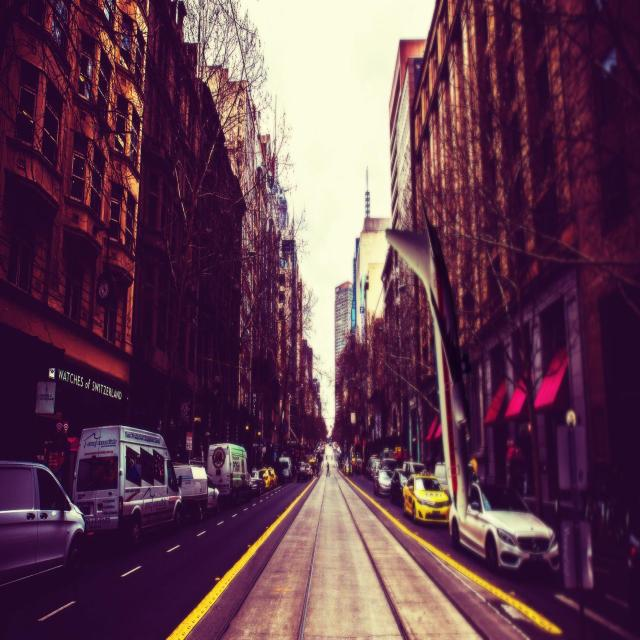airplane: (383, 212, 472, 522)
